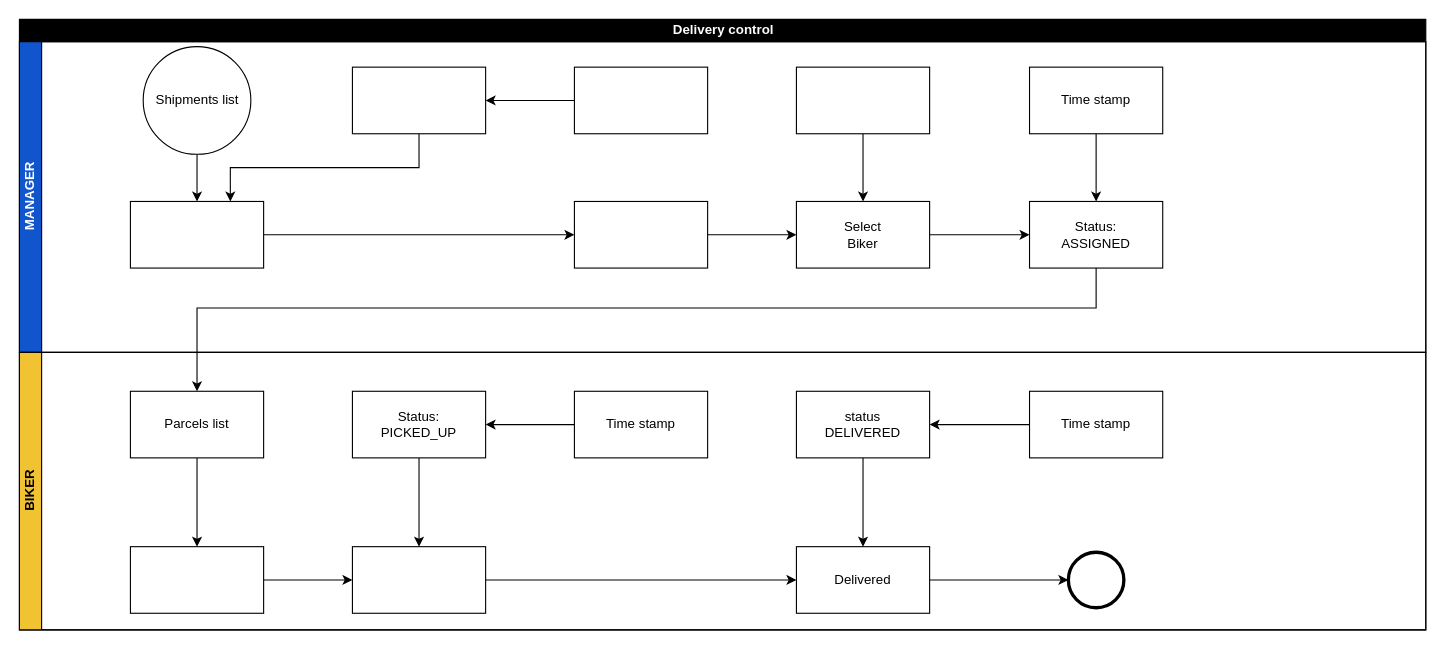
This 1445x649 diagram has some shape labels left out. The centre of each missing label's shape, as x and y in pixels:
Assign: point (640, 234)
Bikers list: point (862, 100)
Order: point (196, 234)
Parcel: point (196, 579)
Pick up: point (418, 579)
Status list: point (640, 100)
Status: WAITING: point (418, 100)
